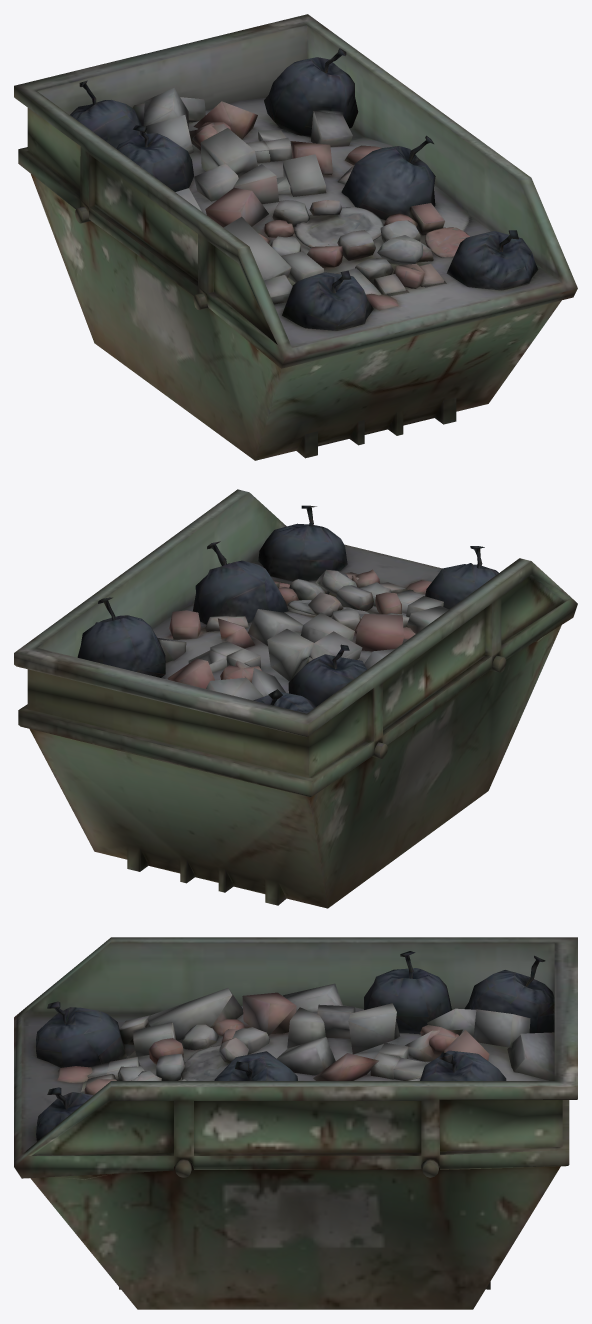
Rendered from javaporcos_mint_cacamba.glb.
The picture shows the model from 3 angles, top to bottom: view 1: azimuth 30°, elevation 25°; view 2: azimuth 150°, elevation 25°; view 3: azimuth 270°, elevation 25°; orthographic projection. The views are drawn at different scales.
Parts seen in each view (by area): view 1: Caçamba de entulho; view 2: Caçamba de entulho; view 3: Caçamba de entulho.
Part boxes in pixels (<box>): Caçamba de entulho: <box>14,14,577,460</box>; Caçamba de entulho: <box>14,489,577,908</box>; Caçamba de entulho: <box>14,937,577,1309</box>.
Size of the model in its own units: 2.28 by 1.76 by 3.5.
Materials: 1 (1 with a texture image).
